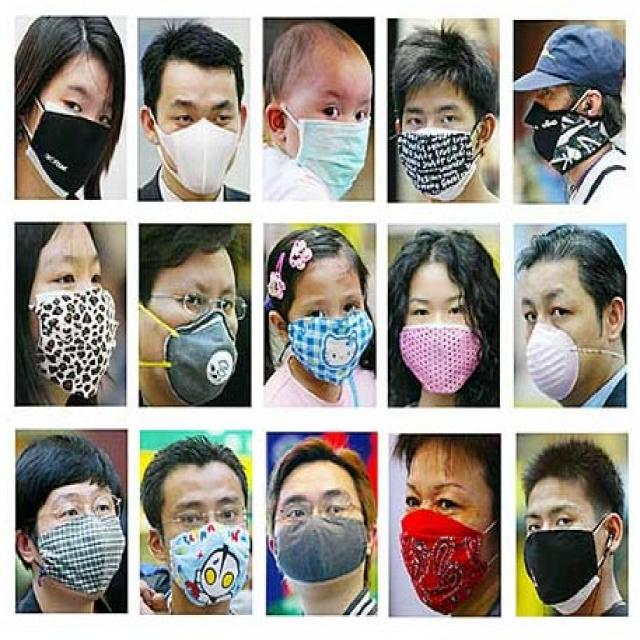mask: (400, 451, 488, 609), (34, 239, 117, 394), (154, 254, 238, 404), (520, 262, 604, 398), (26, 56, 111, 186), (277, 465, 364, 588), (153, 63, 239, 187), (292, 59, 372, 191), (520, 478, 600, 609), (40, 475, 122, 602), (172, 469, 245, 601), (404, 265, 478, 395), (289, 262, 364, 385), (401, 79, 476, 198), (522, 70, 576, 173)
